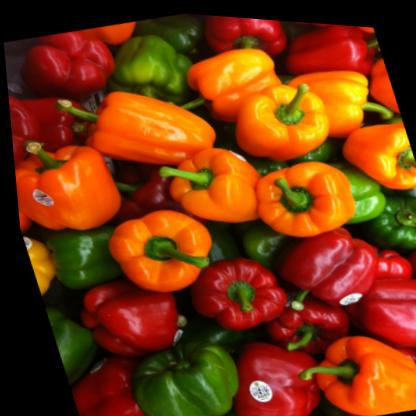bell_pepper: (46, 65, 226, 188), (8, 118, 125, 251), (145, 130, 278, 240), (93, 194, 220, 303), (213, 66, 343, 172), (283, 313, 416, 416), (263, 211, 392, 316), (239, 145, 362, 245), (174, 240, 295, 340), (109, 327, 244, 416), (186, 11, 295, 69)
